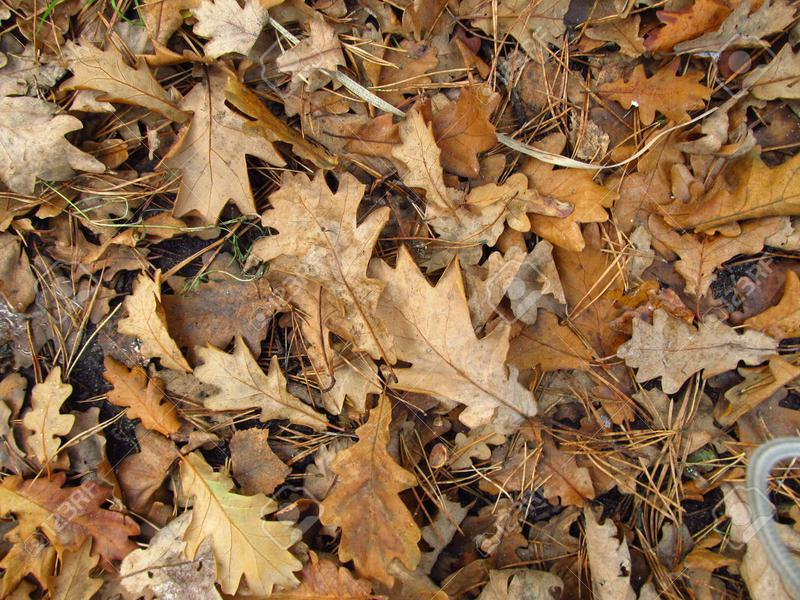leaf: (369, 243, 545, 442), (253, 165, 407, 370), (152, 442, 311, 595), (316, 391, 437, 589), (156, 77, 287, 226), (604, 294, 783, 400), (60, 30, 192, 127), (110, 268, 198, 376), (91, 350, 190, 438), (594, 63, 721, 130), (18, 364, 86, 484), (181, 1, 274, 60)
